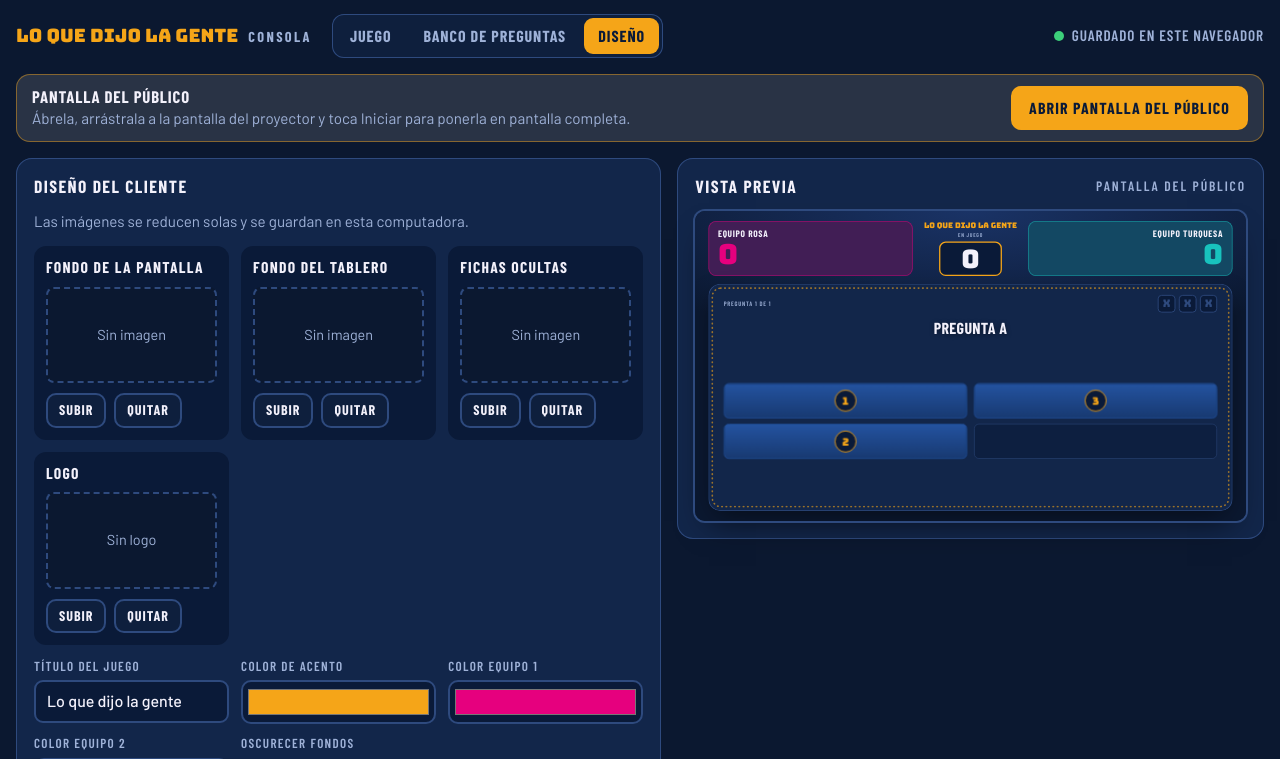
Design tab › restores the original design after a second click
Type "#000000" into the colour field with id "t-rosa" at [546, 702], box [448,680,643,724]
(page scrolled)
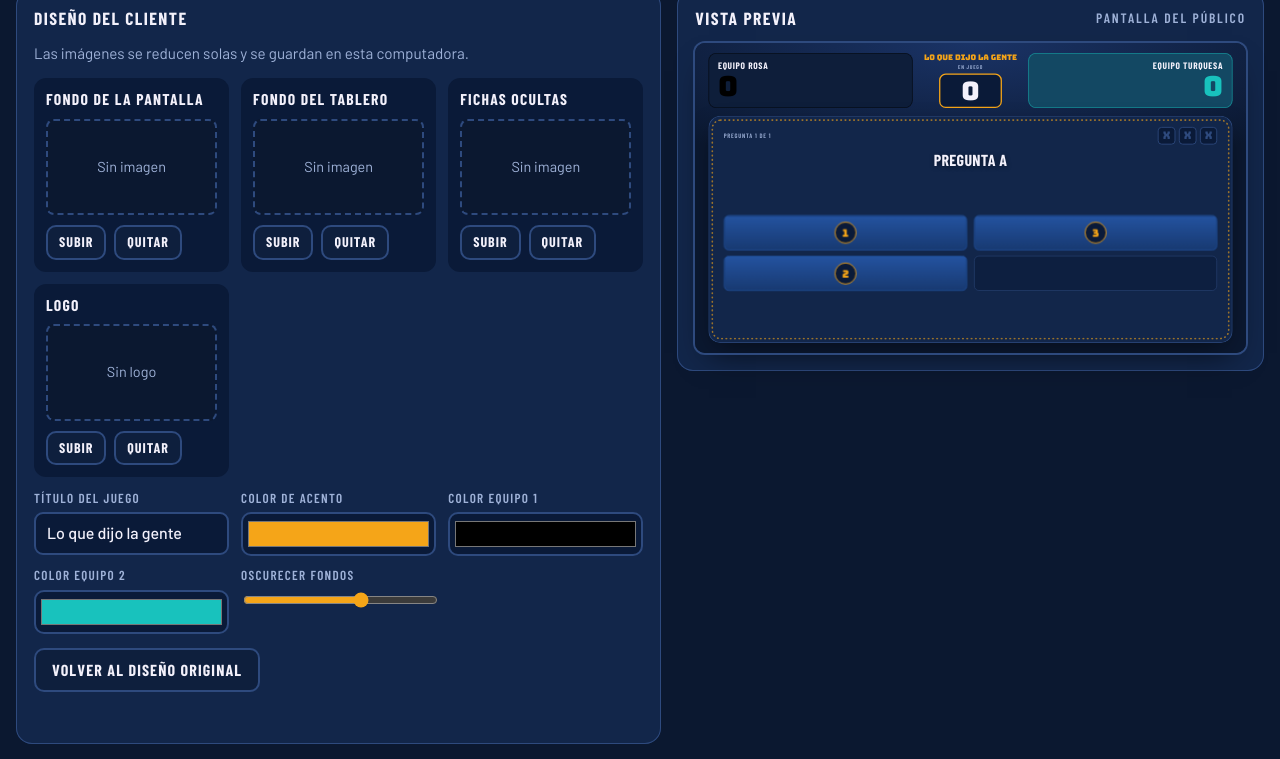
Click the button "Volver al diseño original" at [147, 670], box [34,648,260,692]
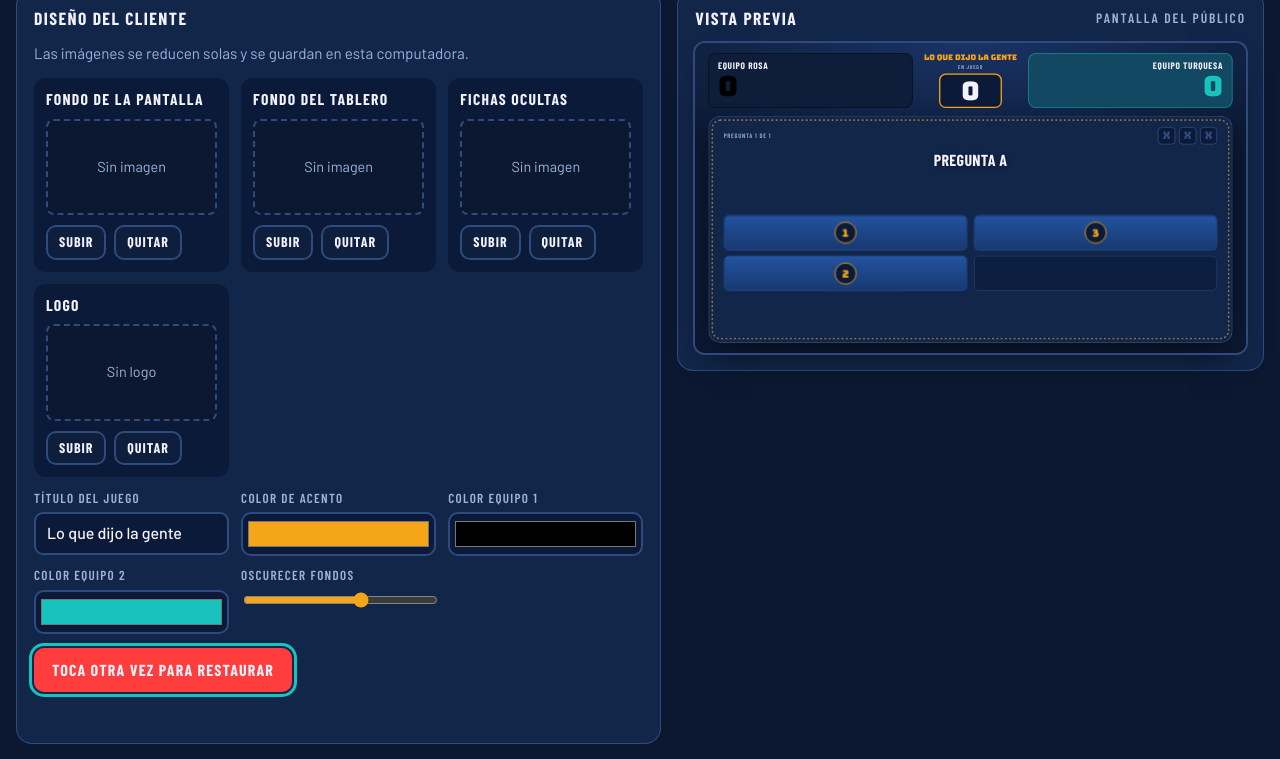
Click the button "Toca otra vez para restaurar" at [163, 670], box [34,648,292,692]
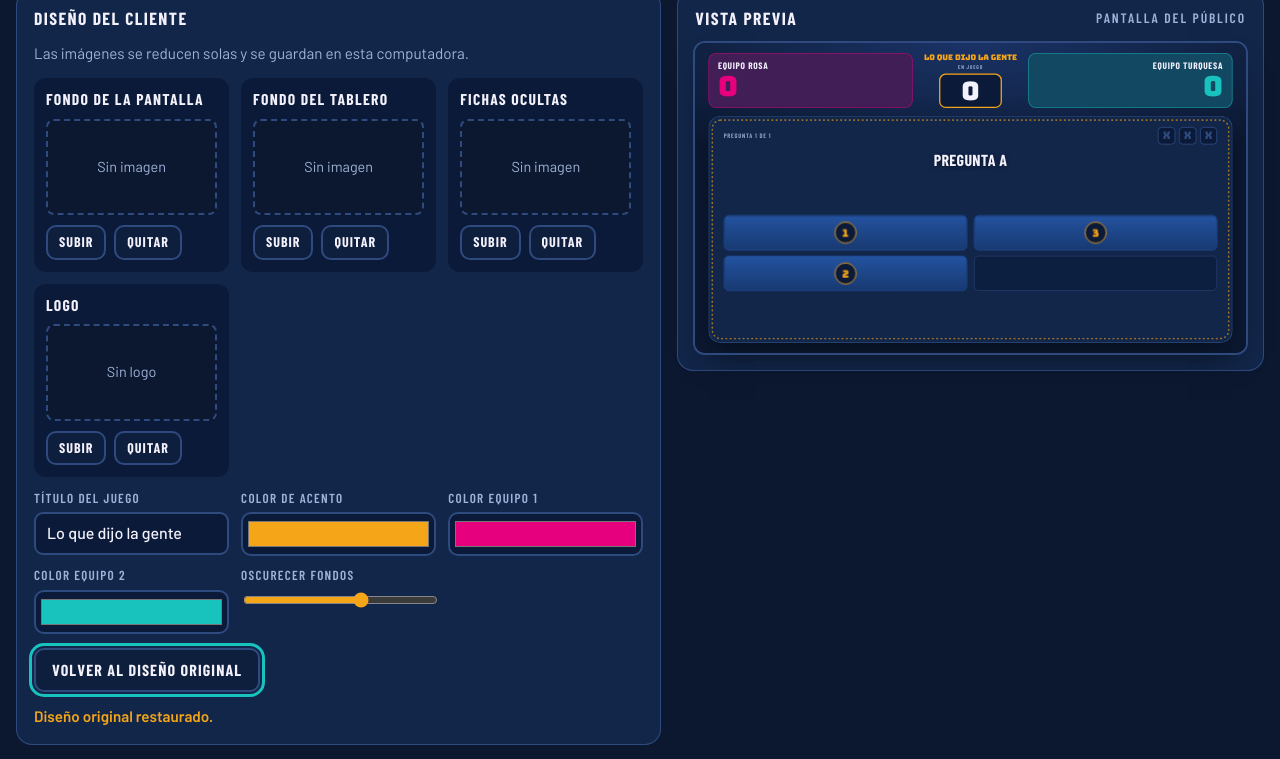
Expected: the text "Diseño original restaurado." is shown, [34,707,213,725]
